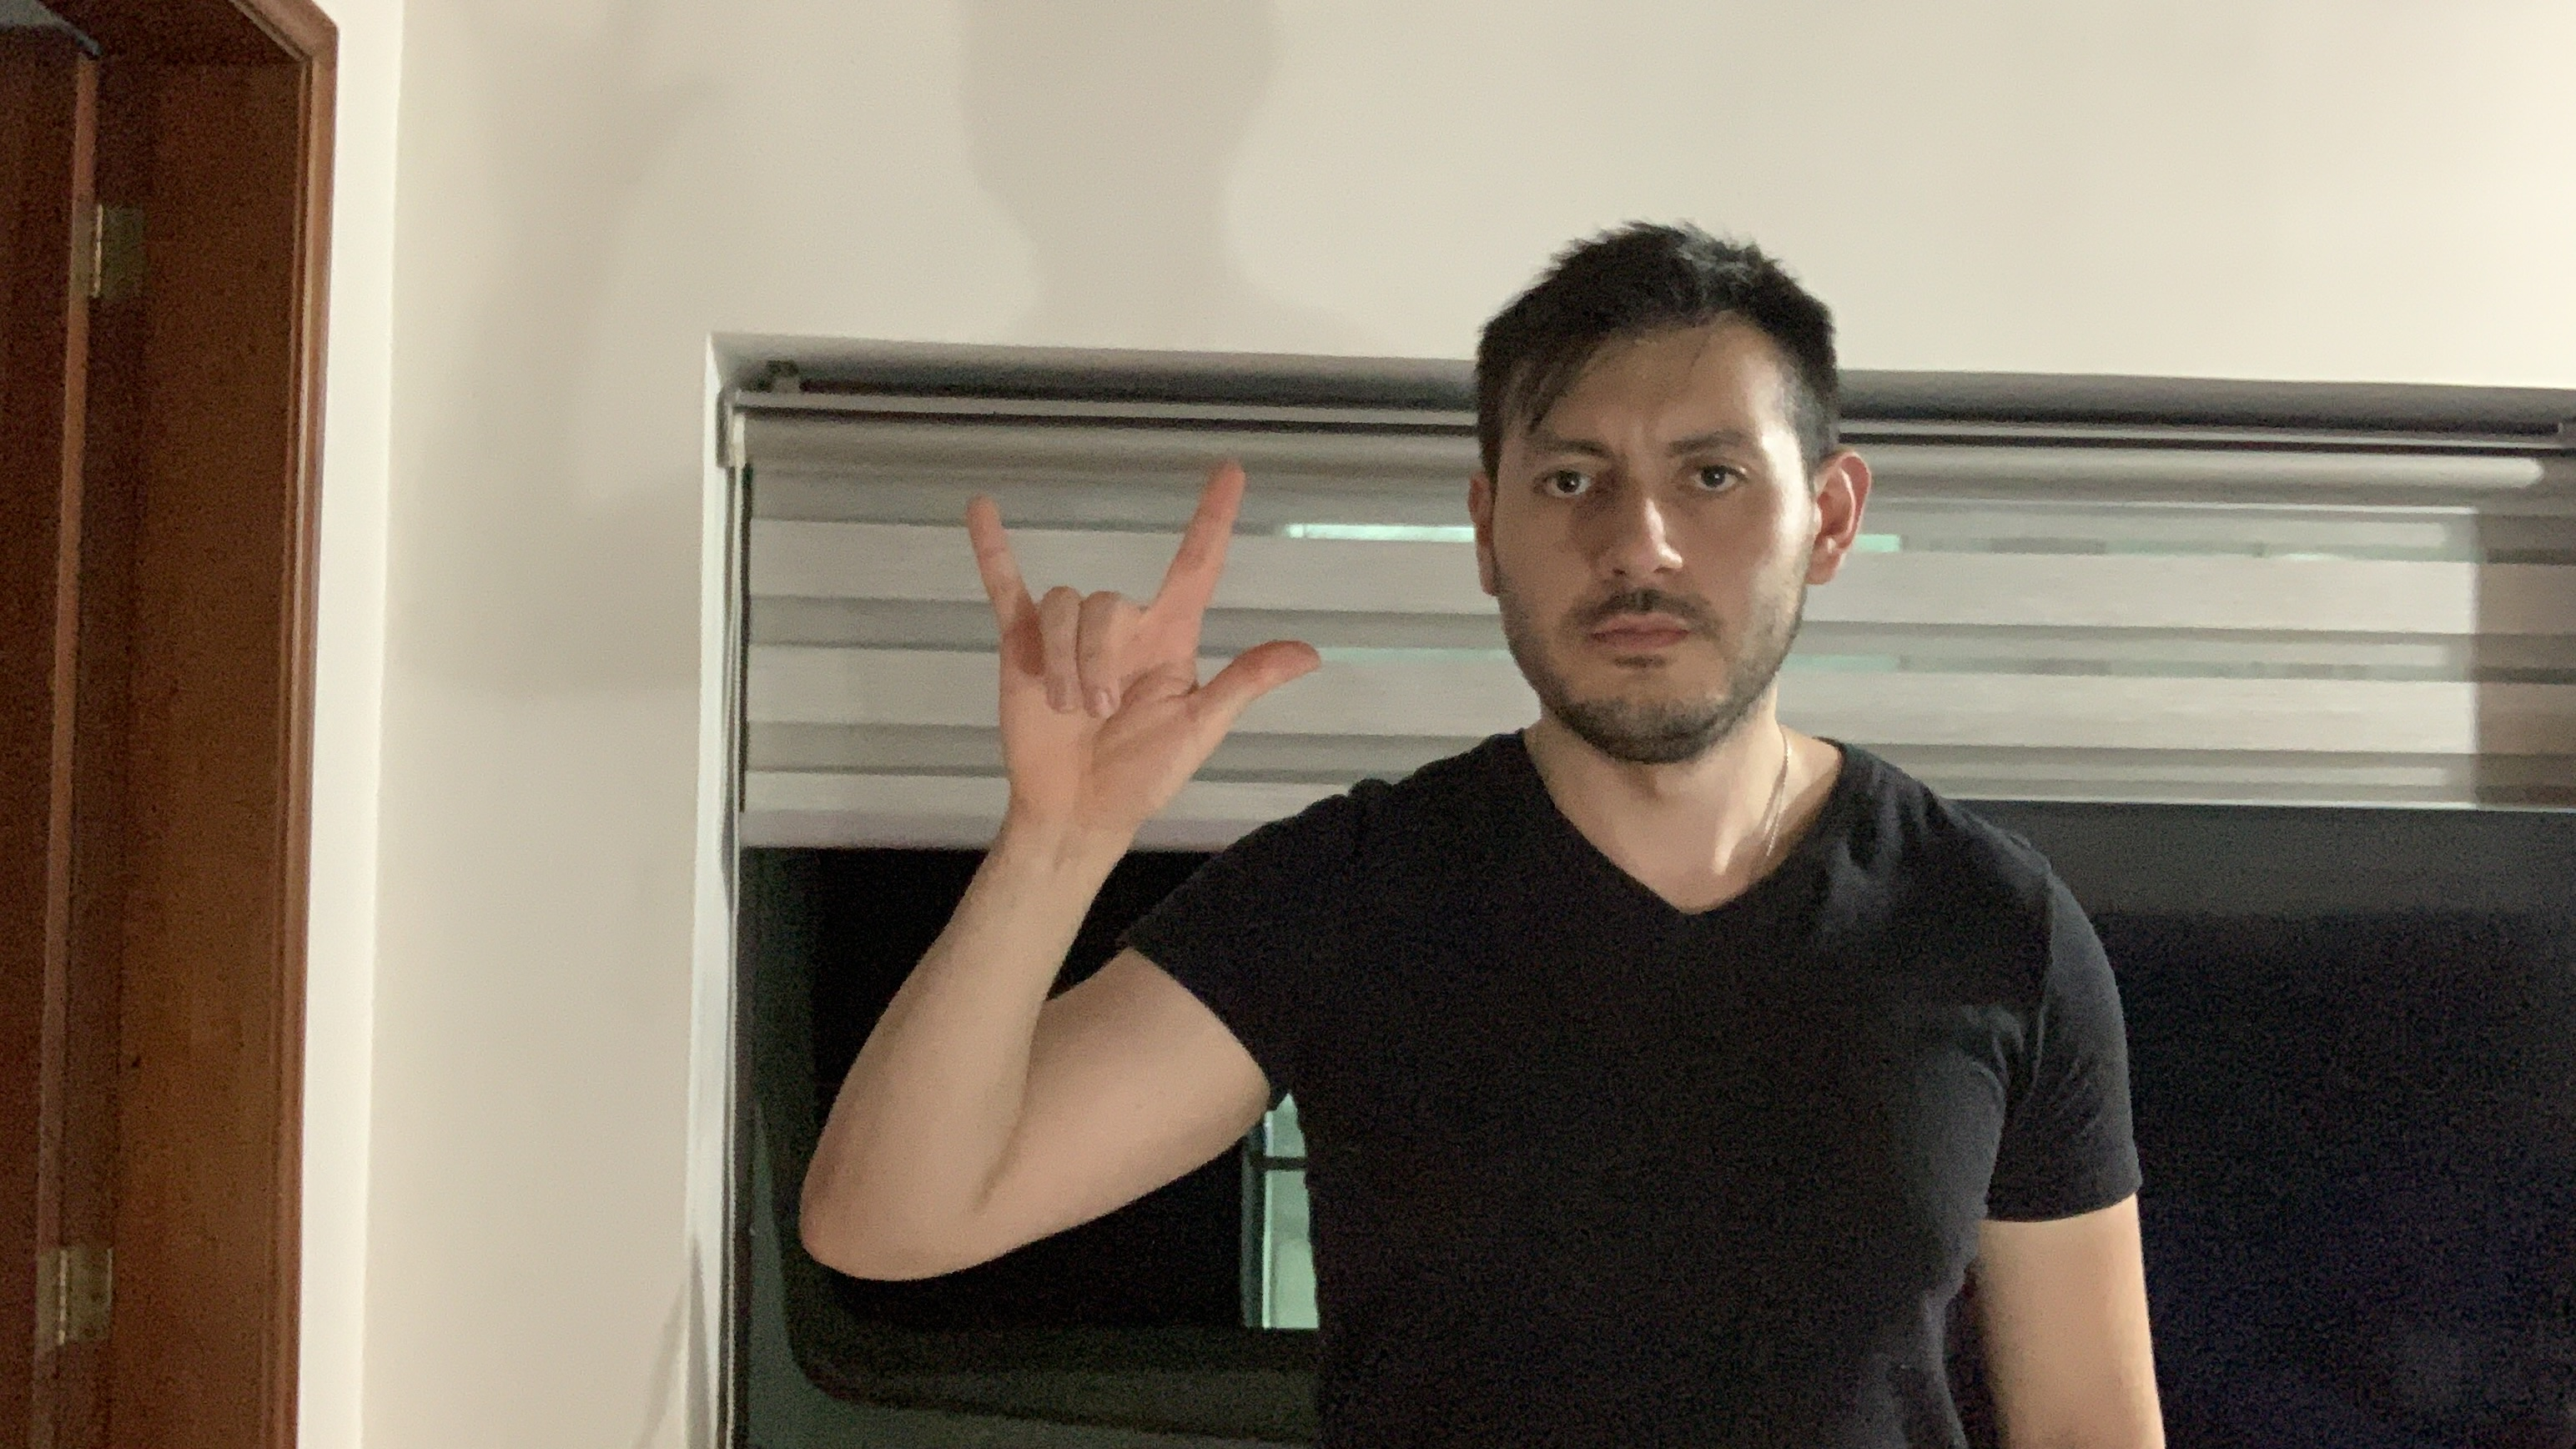I Love You: (948, 458, 1336, 844)
